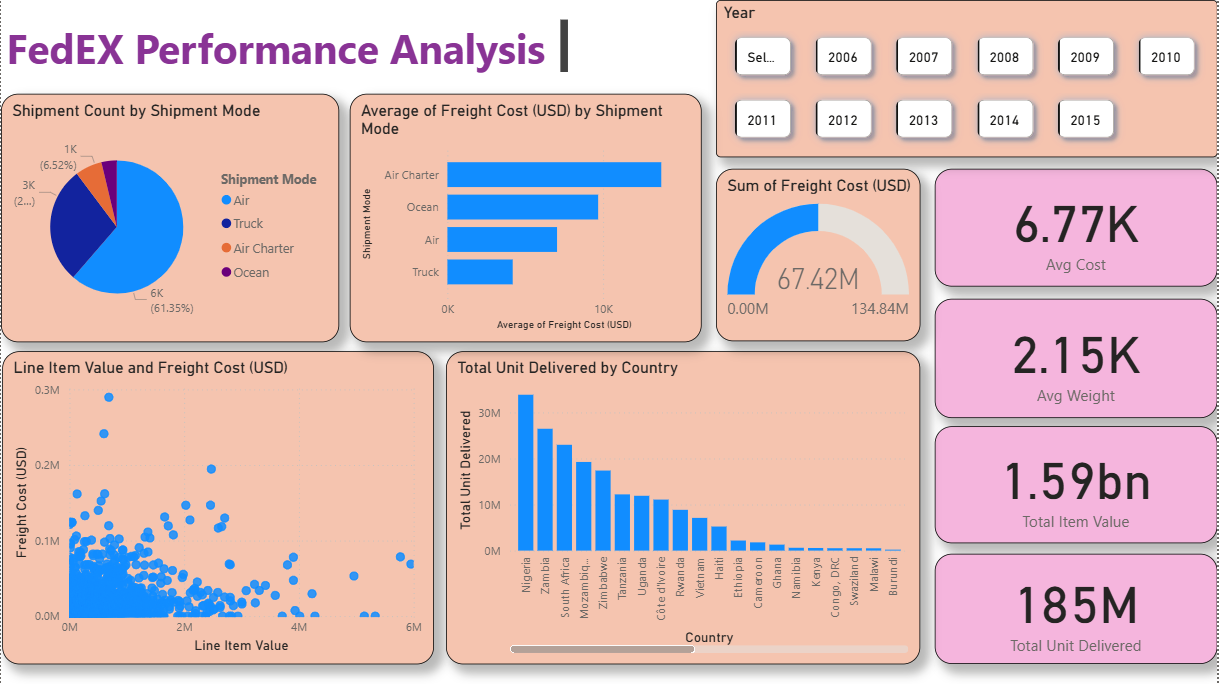

Layout of this report page (visuals, bound fields, positions):
{"tool":"powerbi","page":{"name":"Page 1","canvas":[1280,720],"ordinal":0},"visuals":[{"type":"card","fields":{"Values":["SCMS_Delivery_History_Dataset.Avg Cost"]},"box":[982.7,177.9,297.3,124.4],"z":0},{"type":"card","fields":{"Values":["SCMS_Delivery_History_Dataset.Avg Weight"]},"box":[982.7,314.7,297.3,125.6],"z":1000},{"type":"card","fields":{"Values":["SCMS_Delivery_History_Dataset.Total Item Value"]},"box":[982.7,449.1,297.3,123.2],"z":2000},{"type":"card","fields":{"Values":["SCMS_Delivery_History_Dataset.Total Unit Delivered"]},"box":[982.7,583.4,297.3,115.7],"z":3000},{"type":"pieChart","fields":{"Category":["SCMS_Delivery_History_Dataset.Shipment Mode"],"Y":["SCMS_Delivery_History_Dataset.Shipment Count"]},"box":[0,98.3,355.8,261.2],"z":4000},{"type":"advancedSlicerVisual","fields":{"Values":["SCMS_Delivery_History_Dataset.Delivered to Client Date.Variation.Date Hierarchy.Year"]},"box":[752.6,0,527.4,163],"z":5000},{"type":"textbox","box":[0,16.2,602.1,65.9],"z":6000},{"type":"scatterChart","fields":{"X":["SCMS_Delivery_History_Dataset.Line Item Value"],"Y":["SCMS_Delivery_History_Dataset.Freight Cost (USD)"]},"box":[1.2,369.5,454,329.6],"z":7000},{"type":"columnChart","fields":{"Category":["SCMS_Delivery_History_Dataset.Country"],"Y":["SCMS_Delivery_History_Dataset.Total Unit Delivered"]},"box":[469,369.5,498.8,329.6],"z":7001},{"type":"clusteredBarChart","fields":{"Category":["SCMS_Delivery_History_Dataset.Shipment Mode"],"Y":["Avg(SCMS_Delivery_History_Dataset.Freight Cost (USD))"]},"box":[367,98.3,370.7,261.2],"z":7002},{"type":"gauge","fields":{"Y":["Sum(SCMS_Delivery_History_Dataset.Freight Cost (USD))"]},"box":[752.6,177.9,215.2,181.6],"z":7003}]}

Visuals, with their boxes in screenshot pixels (x1, y1, x2, y2), scaled from the page's 1280x720 canvas onto the 1219x684 screenshot:
card - SCMS_Delivery_History_Dataset.Avg Cost: BBox(936, 169, 1218, 287)
card - SCMS_Delivery_History_Dataset.Avg Weight: BBox(936, 299, 1218, 418)
card - SCMS_Delivery_History_Dataset.Total Item Value: BBox(936, 427, 1218, 544)
card - SCMS_Delivery_History_Dataset.Total Unit Delivered: BBox(936, 554, 1218, 664)
pieChart - SCMS_Delivery_History_Dataset.Shipment Mode x SCMS_Delivery_History_Dataset.Shipment Count: BBox(0, 93, 339, 342)
advancedSlicerVisual - SCMS_Delivery_History_Dataset.Delivered to Client Date.Variation.Date Hierarchy.Year: BBox(717, 0, 1218, 155)
textbox: BBox(0, 15, 573, 78)
scatterChart - SCMS_Delivery_History_Dataset.Line Item Value x SCMS_Delivery_History_Dataset.Freight Cost (USD): BBox(1, 351, 434, 664)
columnChart - SCMS_Delivery_History_Dataset.Country x SCMS_Delivery_History_Dataset.Total Unit Delivered: BBox(447, 351, 922, 664)
clusteredBarChart - SCMS_Delivery_History_Dataset.Shipment Mode x Avg(SCMS_Delivery_History_Dataset.Freight Cost (USD)): BBox(350, 93, 703, 342)
gauge - Sum(SCMS_Delivery_History_Dataset.Freight Cost (USD)): BBox(717, 169, 922, 342)
